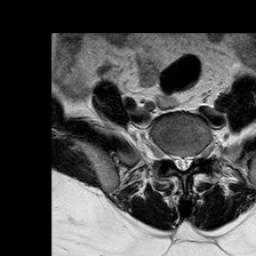CCS_stenosis: (178, 144, 186, 179)
LFS_stenosis: (194, 141, 202, 168)
LLS_normal: (186, 145, 194, 174)
RFS_stenosis: (162, 142, 170, 168)
RLS_normal: (170, 146, 178, 174)
